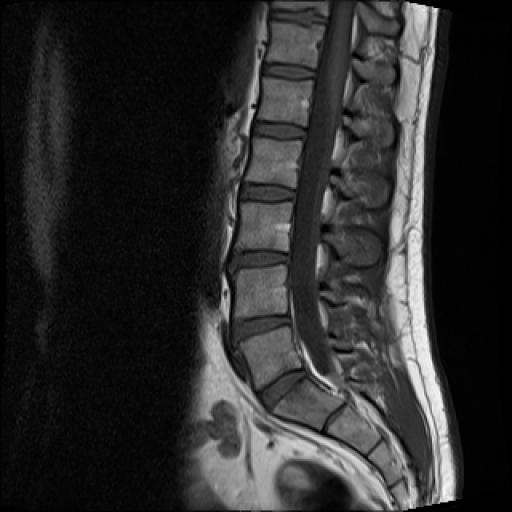L1: (258, 77, 313, 126)
L2: (245, 136, 302, 188)
L3: (235, 202, 293, 252)
L4: (234, 265, 287, 318)
L5: (239, 326, 301, 390)
S1: (275, 378, 342, 430)
